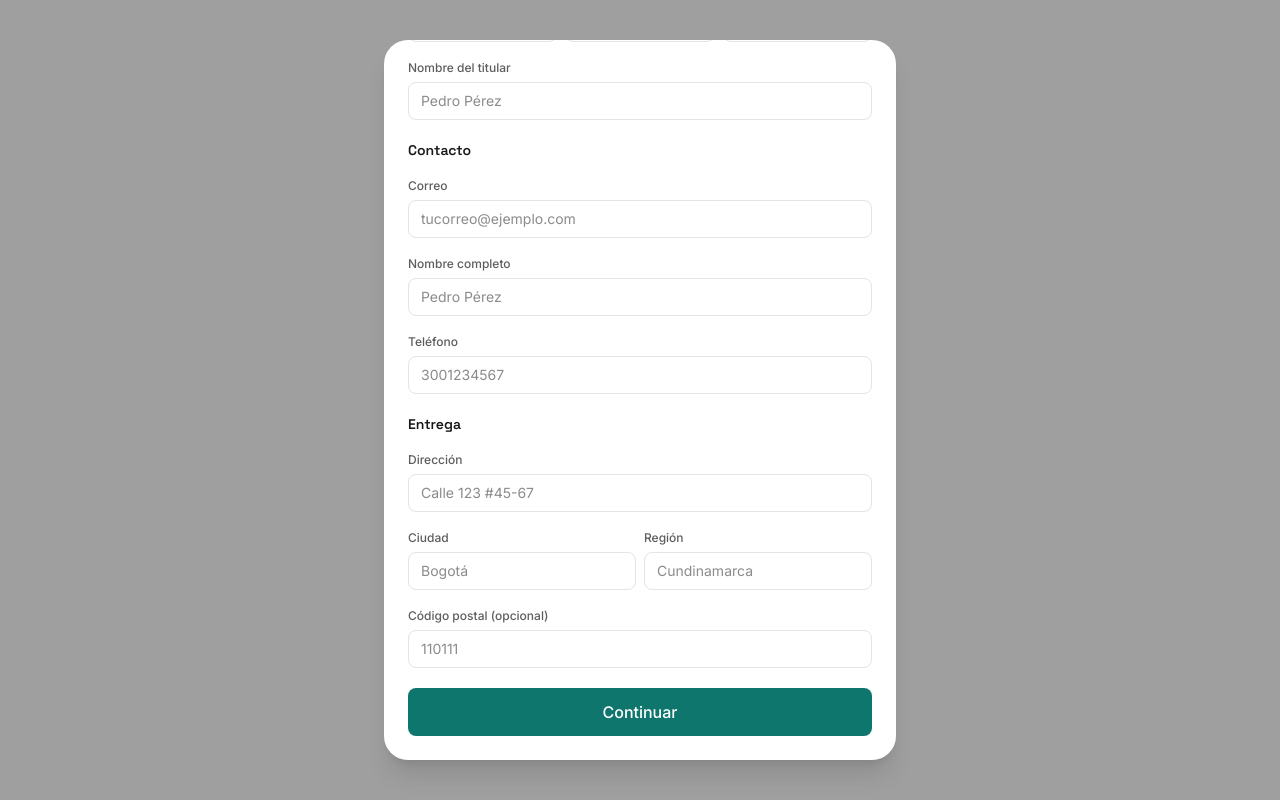
Scenario: CardModal › muestra errores de validación si se envía el formulario vacío
The image size is (1280, 800).
(page scrolled)
Click the button "Continuar" at (640, 712), box [408,688,872,736]
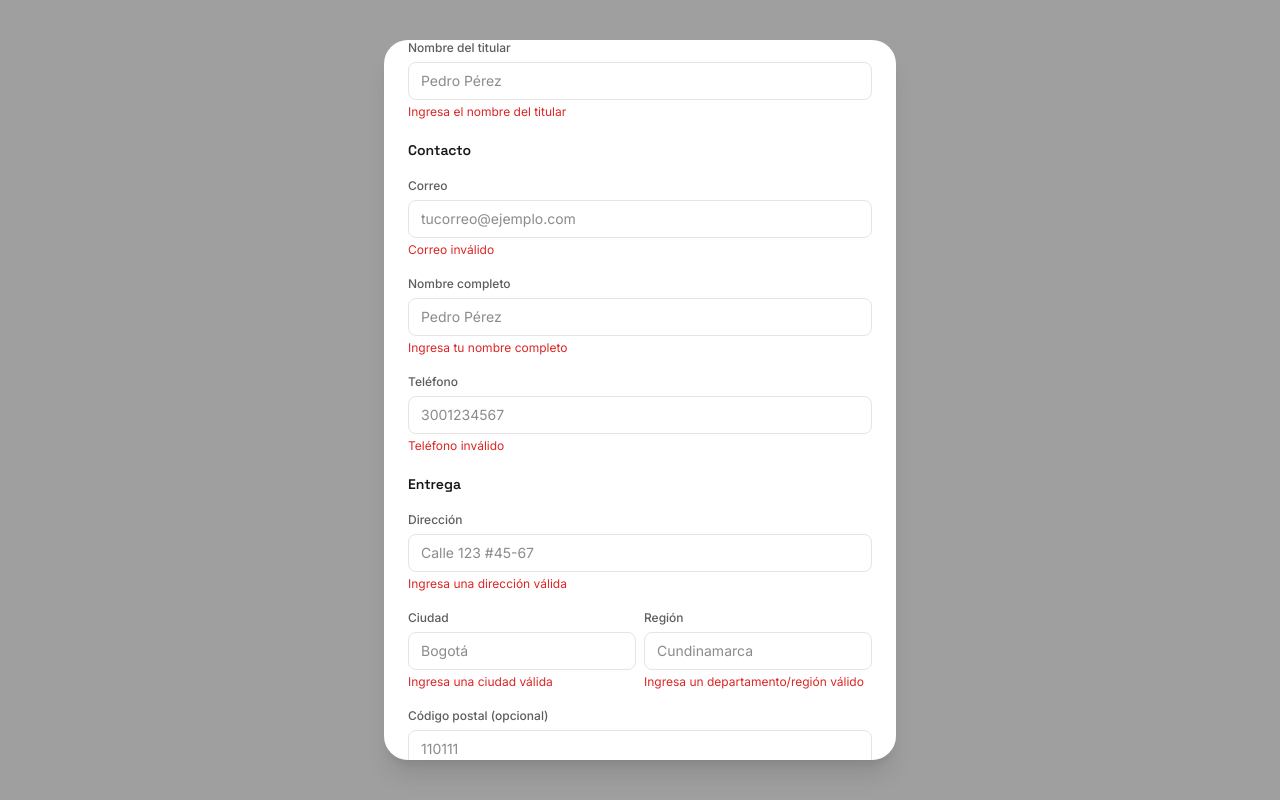
Check: the text "Correo inválido" is shown, box [408,242,494,257]
